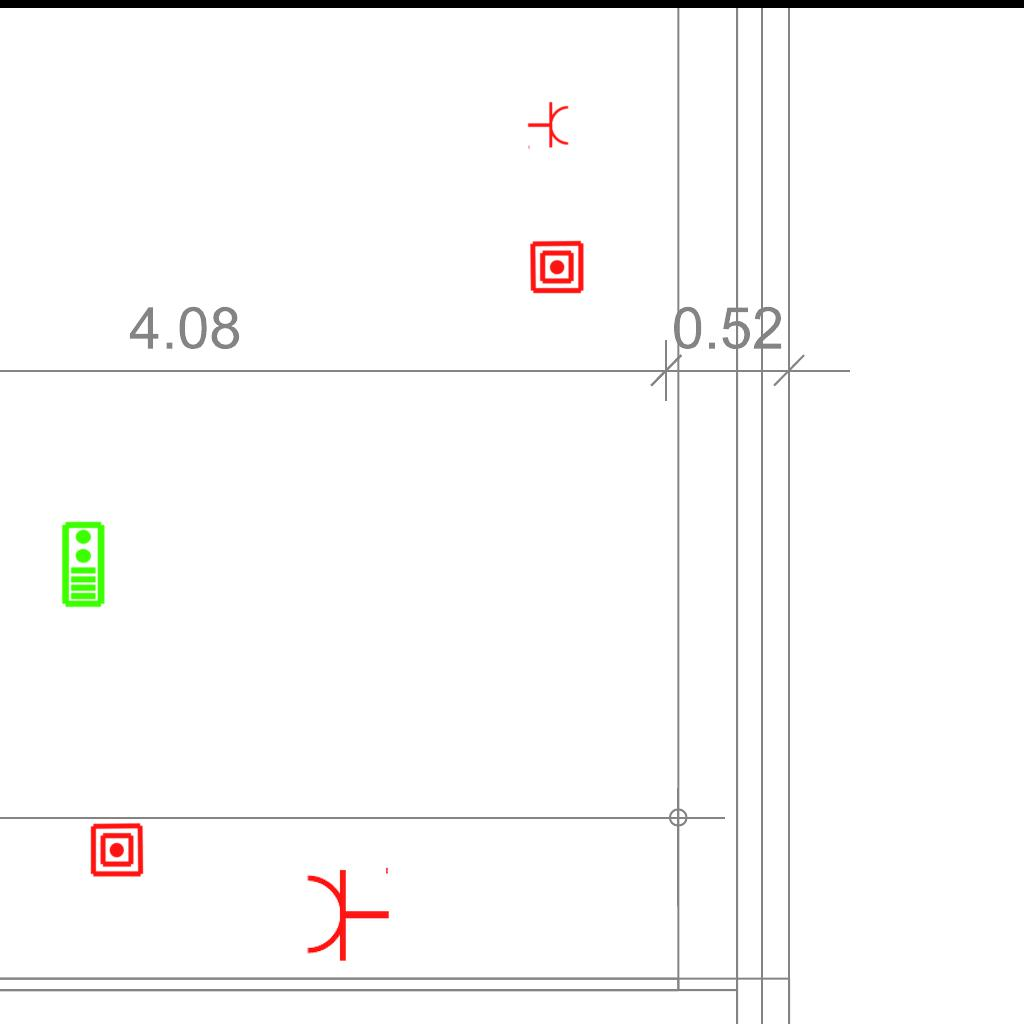Gegensprechanlage_mit_Video: (59, 520, 106, 608)
NAM-Nichtautomatischer_Melder: (529, 239, 585, 295), (89, 822, 145, 878)
Schukosteckdose_einfach: (304, 863, 391, 963), (527, 101, 570, 151)
